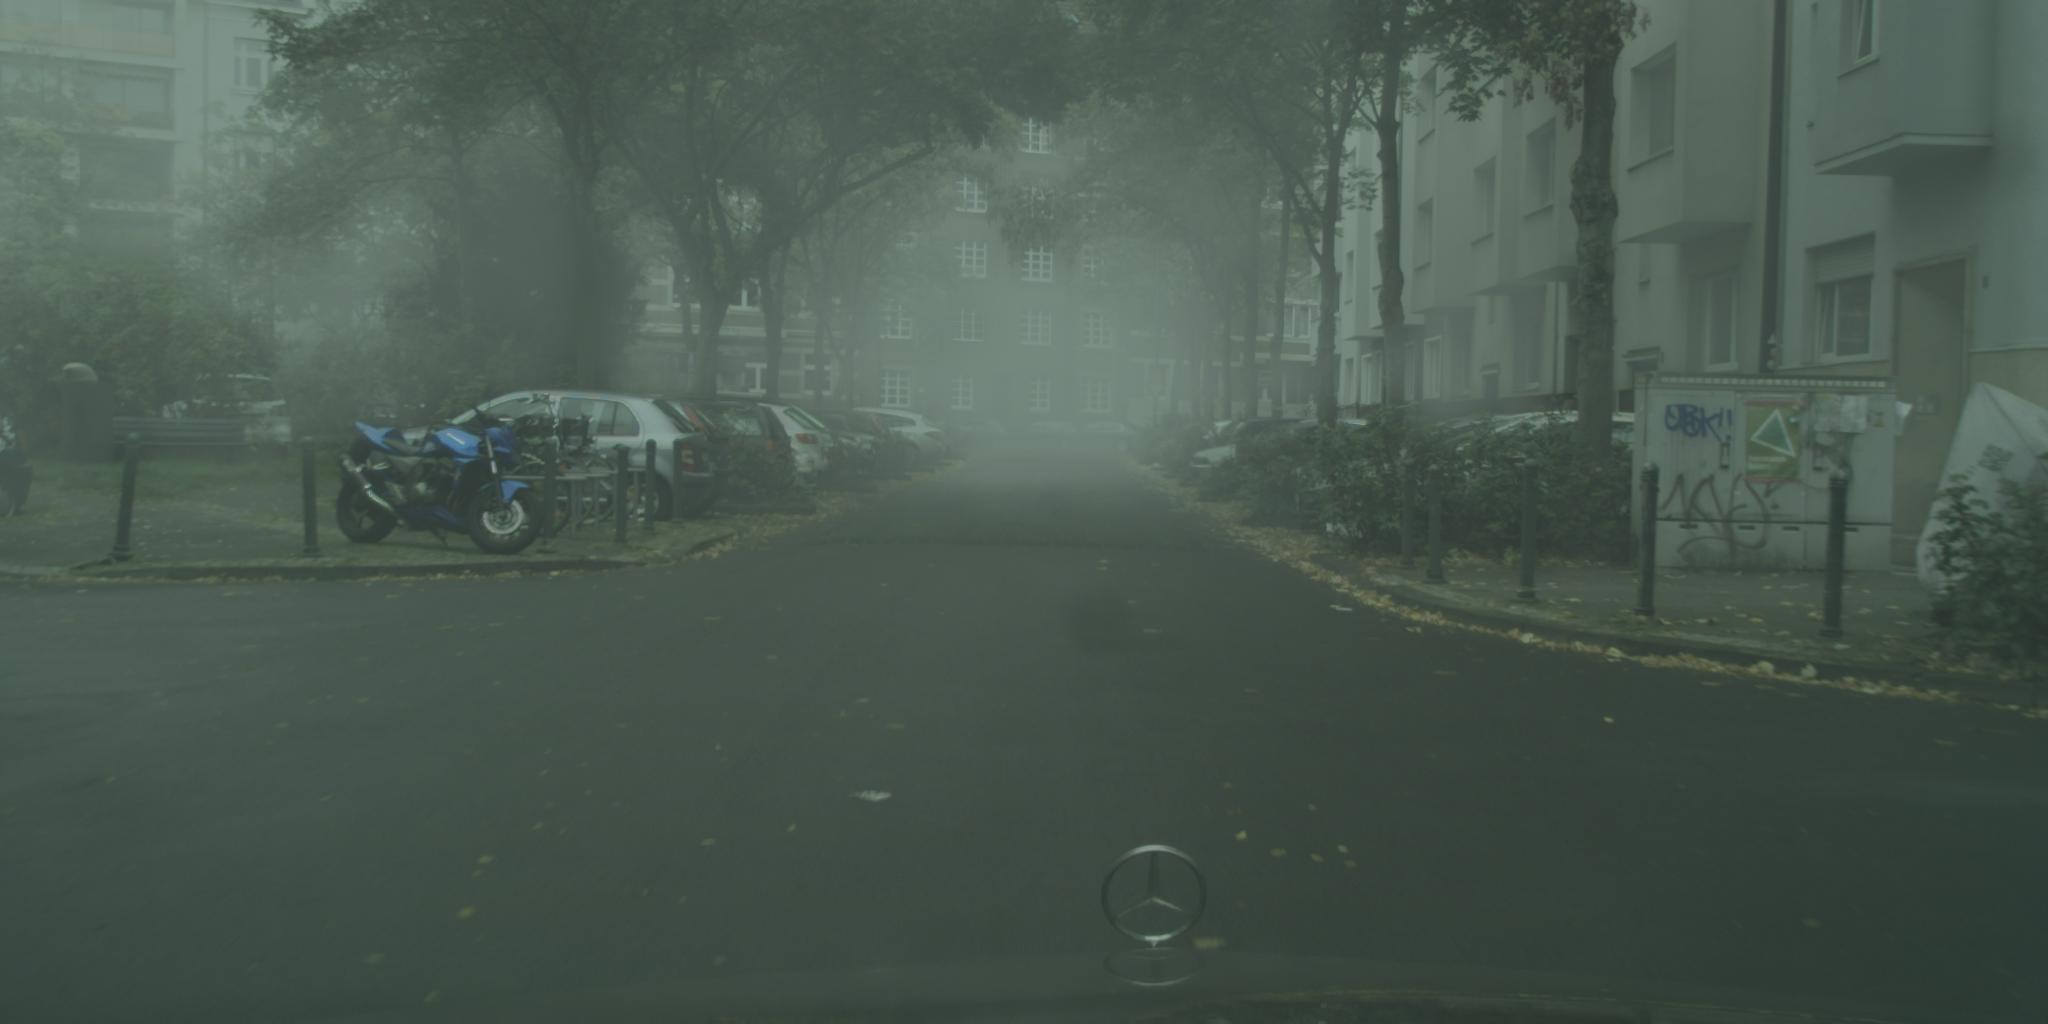car: (388, 389, 716, 524), (643, 394, 793, 490), (620, 398, 731, 519), (717, 393, 889, 462), (726, 401, 829, 478), (842, 408, 947, 468), (799, 408, 901, 457), (1, 377, 35, 519), (236, 375, 293, 451), (1219, 418, 1304, 451), (1004, 421, 1088, 453), (1079, 422, 1147, 453), (952, 421, 1017, 452), (1192, 443, 1238, 479)
motorcycle: (337, 406, 546, 556)
